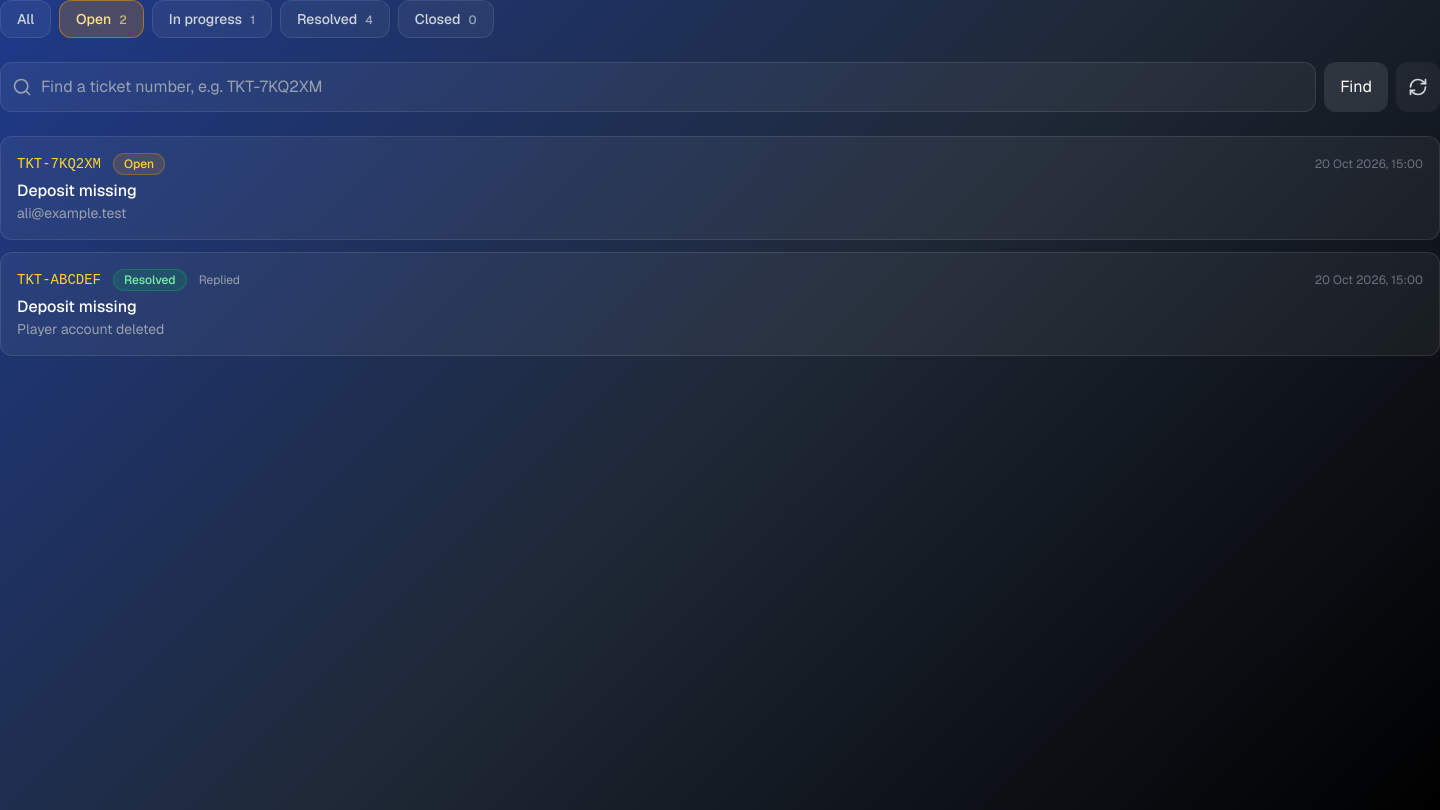
SupportTicketsManager › opens a ticket, saves a new status and reply, and reloads
Click the button "TKT-7KQ2XM".
click(59, 164)  # box left=0, top=136, right=1439, bottom=240
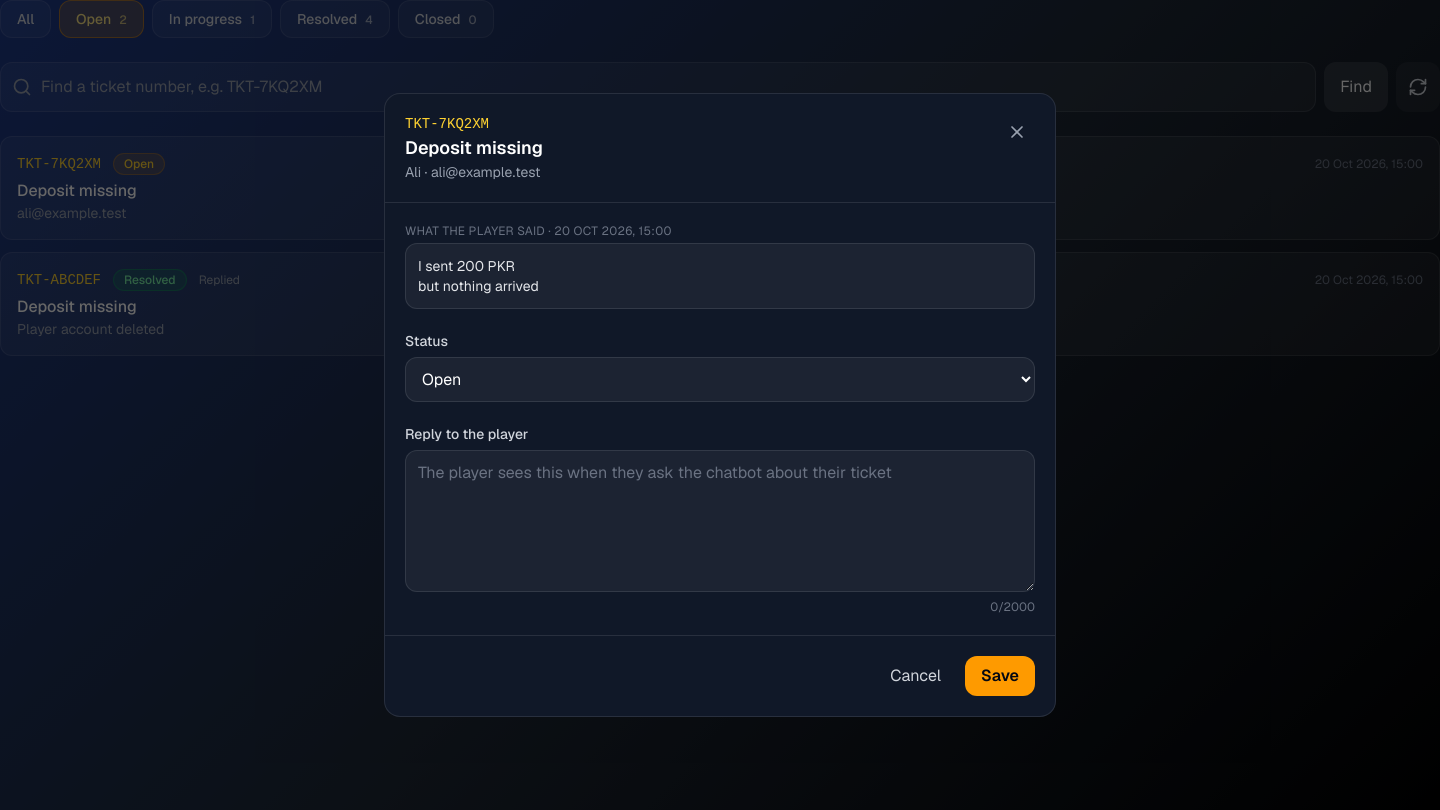
Now the text "Ali · ali@example.test" is shown, box left=405, top=162, right=543, bottom=182
Now the text "I sent 200 PKR but nothing arrived" is shown, box left=405, top=243, right=1035, bottom=309
Select "Resolved" in the dropdown at x=720, y=380, box left=405, top=357, right=1035, bottom=402
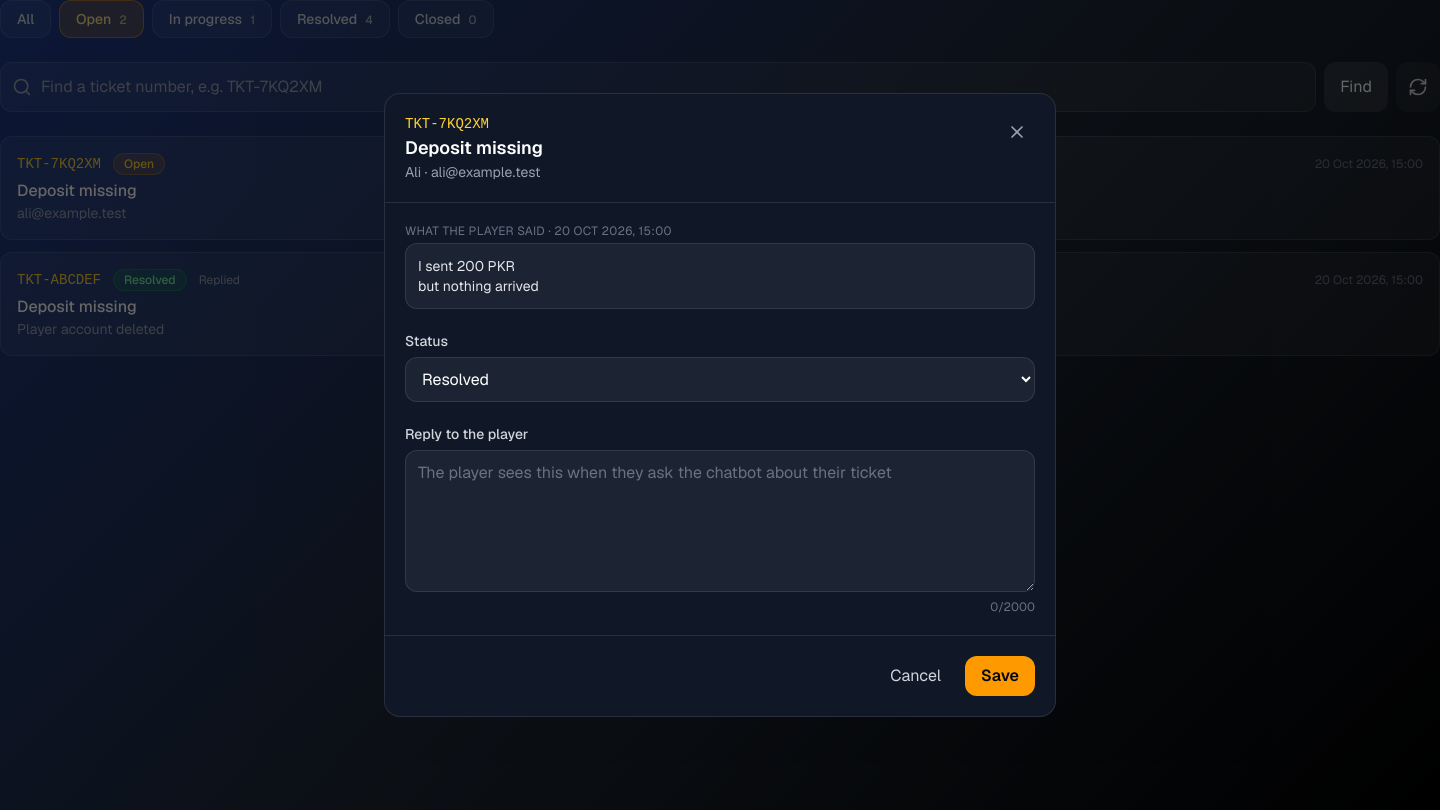
Replace the text in the text box with placeholder "The player sees this" with "Credited" at x=720, y=521, box left=405, top=450, right=1035, bottom=592
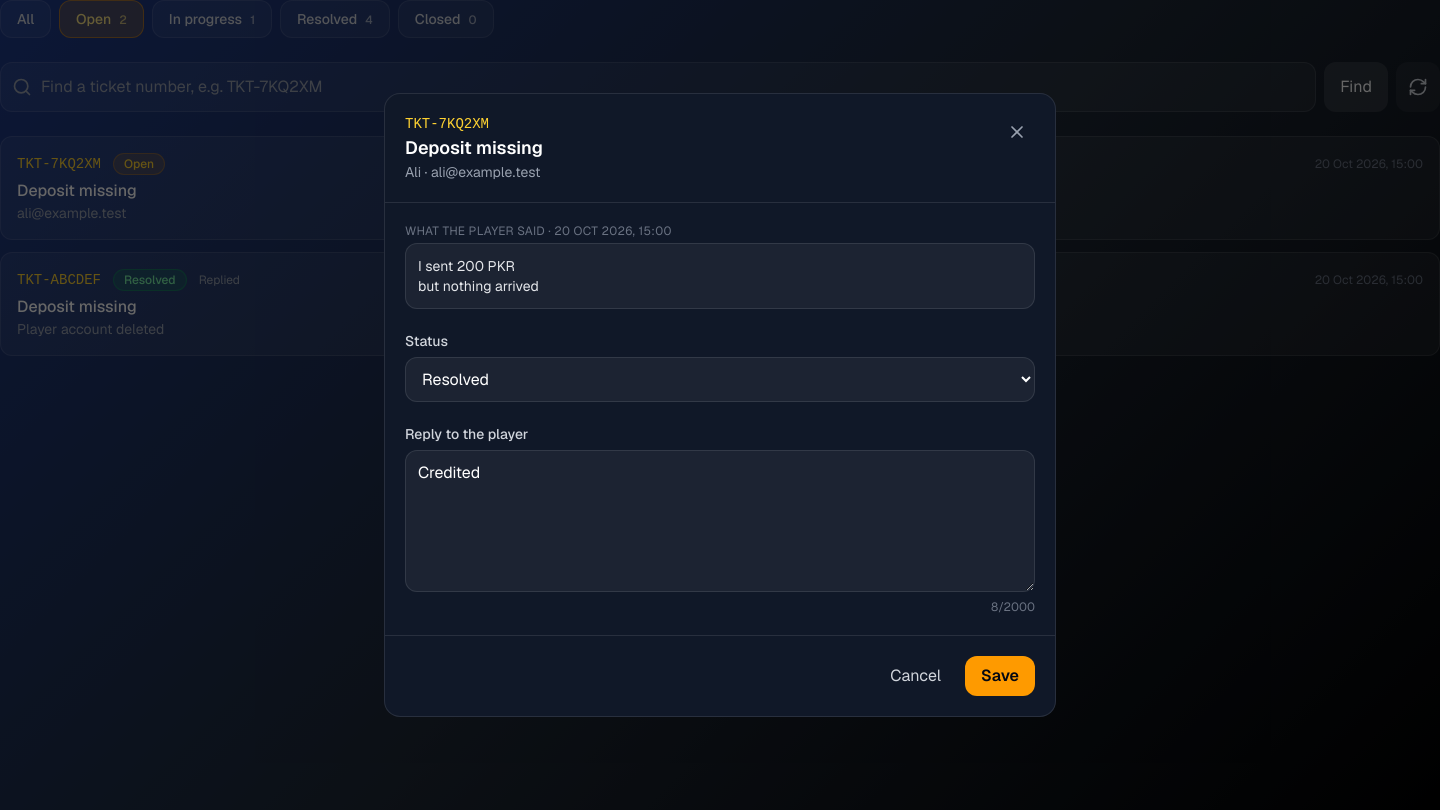
Now the text "8/2000" is shown, box left=991, top=599, right=1035, bottom=615
Click the button "Save".
click(1000, 676)  # box left=965, top=656, right=1035, bottom=696
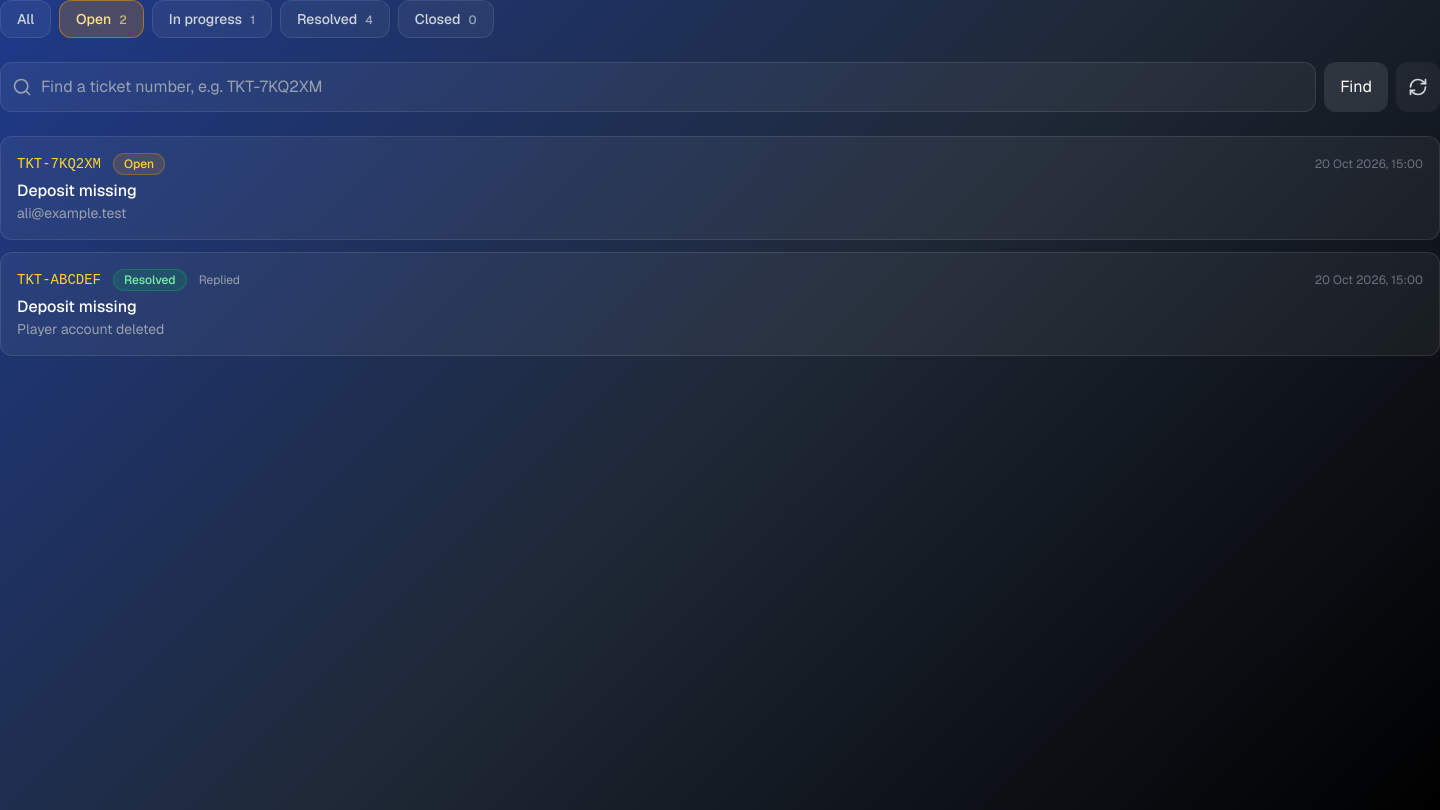
Now the dialog is gone
